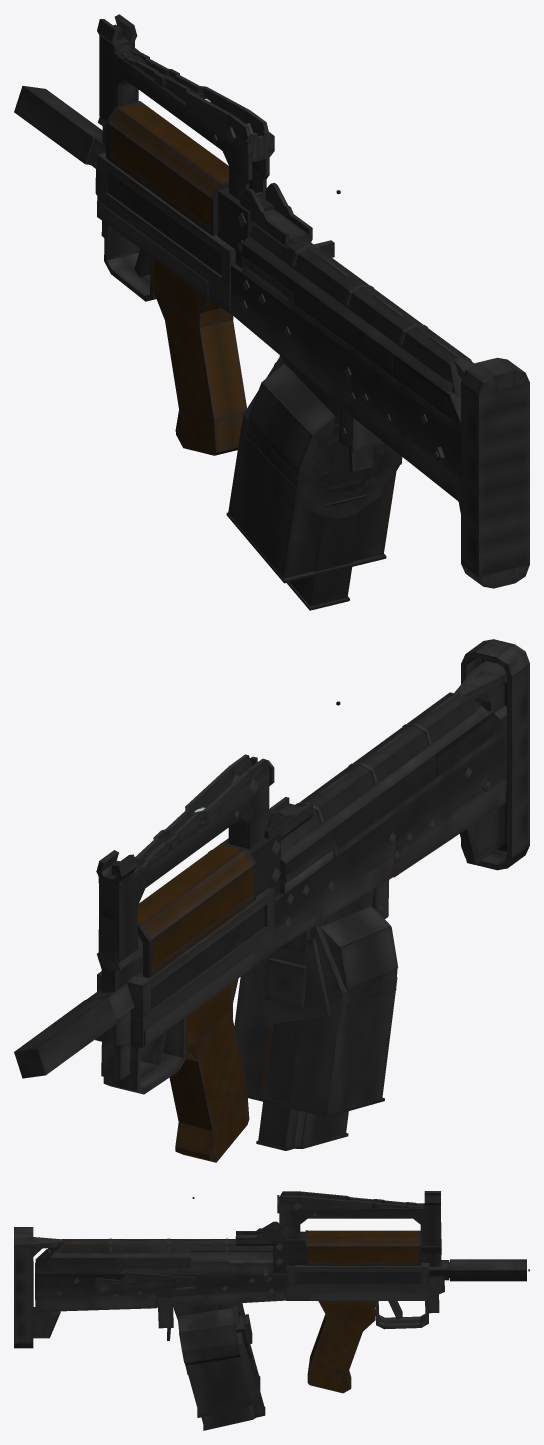
Rendered from a4_ots14.geo.fbx.
The picture shows the model from 3 angles, top to bottom: view 1: azimuth 30°, elevation 25°; view 2: azimuth 150°, elevation 25°; view 3: azimuth 270°, elevation 25°; orthographic projection. The views are drawn at different scales.
Visible parts, largest first — view 1: gun, dustcover, pgriptrigger, bone26, magazine6, carryhandle, handguard2, handguard, muzbrake, lowerbody, bone14, ironsights (+5 smaller); view 2: gun, dustcover, bone26, pgriptrigger, magazine6, carryhandle, bone18, handguard2, lowerbody, muzbrake, handguard, bone14 (+2 smaller); view 3: gun, dustcover, pgriptrigger, carryhandle, magazine6, bone26, lowerbody, handguard, handguard2, bolt, muzbrake, switch (+7 smaller).
Boxes of the visible parts, x1,y1,x2,y2 form: gun: (87,14,529,588); dustcover: (241,224,470,433); pgriptrigger: (104,223,246,455); bone26: (226,415,398,583); magazine6: (246,360,402,519); carryhandle: (112,49,274,200); handguard2: (106,101,228,202); handguard: (109,124,217,236); muzbrake: (14,85,102,164); lowerbody: (95,169,460,502); bone14: (230,293,350,414); ironsights: (240,182,312,249); gun: (87,639,529,1047); dustcover: (280,692,506,893); bone26: (234,973,397,1117); pgriptrigger: (103,978,249,1162); magazine6: (251,889,398,1025); carryhandle: (133,754,274,906); bone18: (256,1020,348,1150); handguard2: (137,842,255,977); lowerbody: (95,775,506,1080); muzbrake: (14,996,116,1078); handguard: (152,863,255,975); bone14: (275,855,394,949); gun: (14,1191,449,1348); dustcover: (35,1238,273,1274); pgriptrigger: (307,1301,428,1393); carryhandle: (277,1191,426,1238); magazine6: (173,1303,252,1374); bone26: (186,1343,260,1417); lowerbody: (35,1276,444,1313); handguard: (305,1246,418,1265); handguard2: (305,1230,421,1265); bolt: (177,1251,273,1283); muzbrake: (450,1259,526,1281); switch: (95,1272,195,1296).
Size of the model in its own units: 56.26 by 206 by 415.
Materials: 1 (1 with a texture image).
